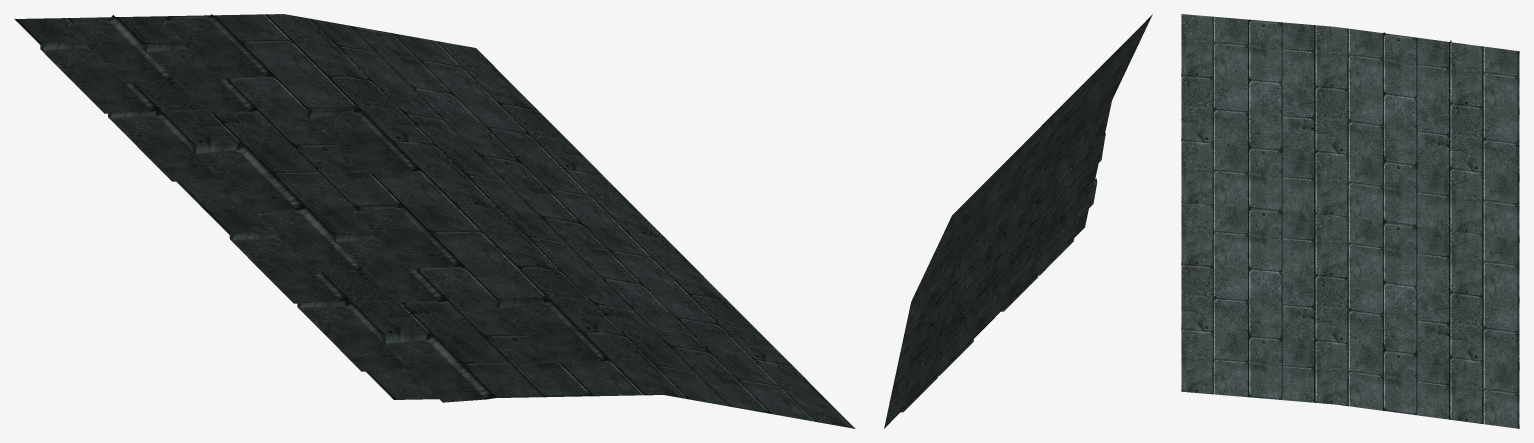
3 renders of one model, left to right at view 1: azimuth 30°, elevation 25°; view 2: azimuth 150°, elevation 25°; view 3: azimuth 270°, elevation 25°, orthographic. The views are drawn at different scales.
Visible parts, largest first — view 1: model_Object02; view 2: model_Object02; view 3: model_Object02.
Part boxes in pixels (x1,y1,x2,y2): model_Object02: (14, 14, 855, 428); model_Object02: (884, 14, 1152, 428); model_Object02: (1181, 14, 1519, 428).
Size of the model in its own units: 6.18 by 6.7 by 5.78.
Materials: 1 (1 with a texture image).
